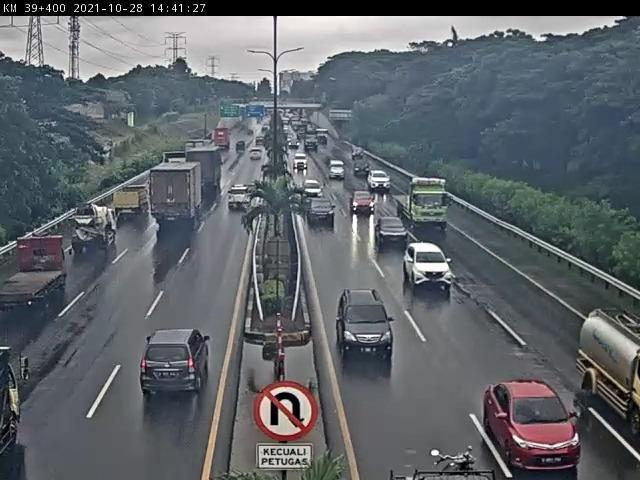car: (480, 379, 582, 477), (139, 328, 211, 395), (335, 289, 395, 361), (402, 242, 453, 293), (374, 218, 410, 250), (307, 199, 336, 228), (229, 185, 254, 210), (350, 192, 376, 216), (302, 181, 324, 202)
truck: (578, 309, 640, 439), (1, 234, 69, 310), (390, 172, 450, 231), (150, 163, 205, 224), (71, 203, 119, 251), (113, 186, 151, 218)
